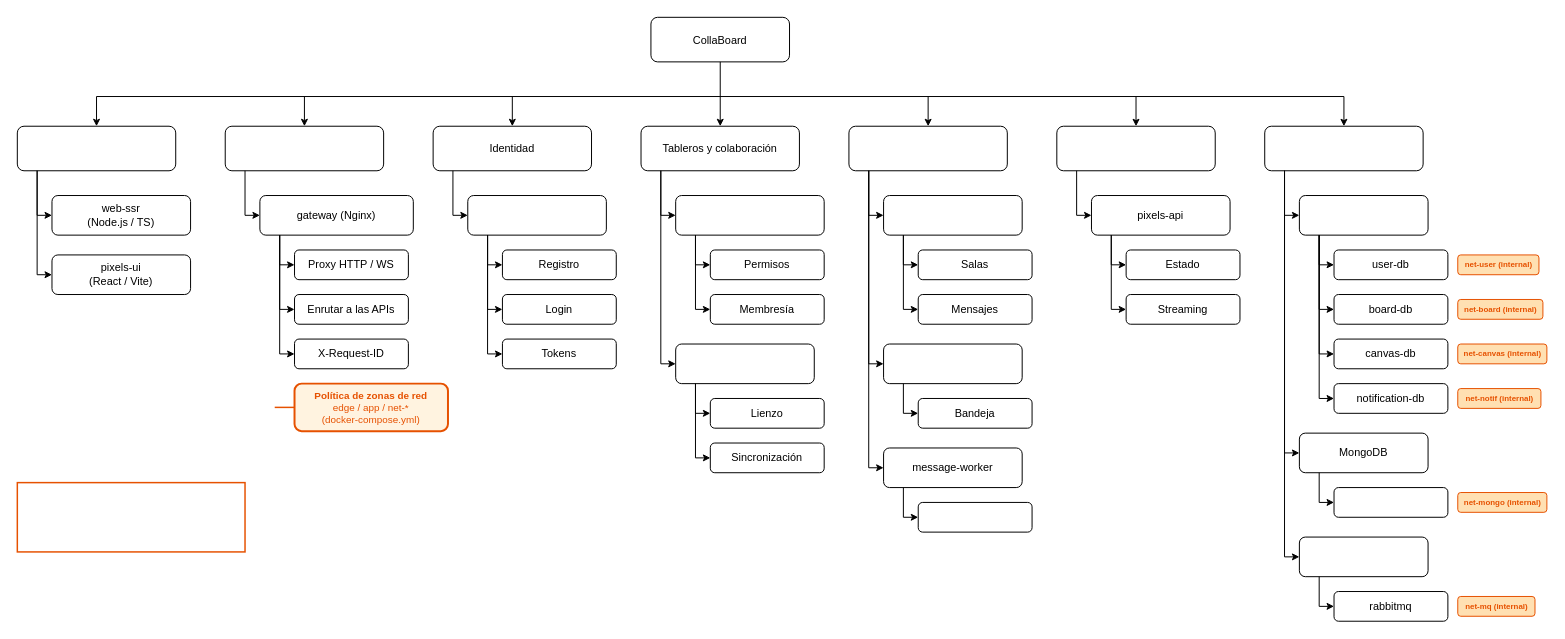
This 1565x639 diagram has some shape labels left out. The box of each missing label's shape, as (x1, y1, x2, y2) in pixels:
auth-api: (467, 195, 606, 235)
chat-api: (883, 195, 1022, 235)
collaboration-api: (675, 195, 824, 235)
Comunicación: (848, 125, 1007, 171)
Creatividad: (1056, 125, 1215, 171)
Gateway y trazabilidad: (224, 125, 384, 171)
Infraestructura de datos: (1264, 125, 1423, 171)
Leyenda negro: P2 naranja: S3 · Segmentación por zonas: (16, 481, 245, 552)
Mensajería: (1298, 536, 1428, 577)
notification-api: (883, 343, 1022, 384)
pixels-nosqldb: (1333, 487, 1448, 517)
pizarra-api: (675, 343, 814, 384)
PostgreSQL: (1298, 195, 1428, 235)
Presentación: (16, 125, 176, 171)
Tareas asíncronas: (917, 501, 1032, 532)
